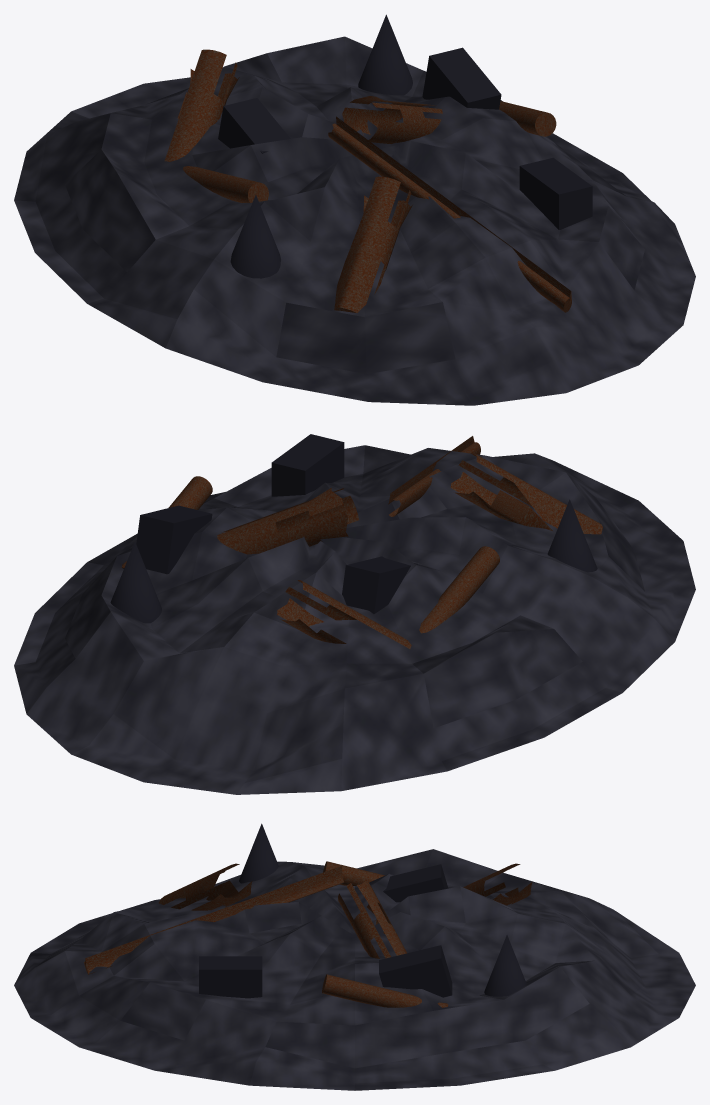
Rendered from debris.fbx.
3 renders of one model, top to bottom at view 1: azimuth 30°, elevation 25°; view 2: azimuth 150°, elevation 25°; view 3: azimuth 270°, elevation 25°, orthographic. The views are drawn at different scales.
Visible parts, largest first — view 1: pSphere1, pCylinder7, pCylinder5, pCylinder6, pCube1, pCube2, pCylinder4, pCone2, pCone1, pCube4, pCylinder1, pCylinder2; view 2: pSphere1, pCylinder4, pCylinder7, pCube1, pCube2, pCube4, pCylinder6, pCylinder1, pCone1, pCone2, pCylinder5, pCylinder2; view 3: pSphere1, pCylinder5, pCube2, pCube1, pCylinder4, pCylinder7, pCylinder2, pCube4, pCone1, pCone2, pCylinder6, pCylinder1.
Boxes of the visible parts, <box> form: pSphere1: <box>14,36,695,405</box>; pCylinder7: <box>334,176,412,312</box>; pCylinder5: <box>328,116,571,312</box>; pCylinder6: <box>164,49,239,161</box>; pCube1: <box>519,157,592,229</box>; pCube2: <box>422,47,501,109</box>; pCylinder4: <box>342,96,442,143</box>; pCone2: <box>230,195,280,278</box>; pCone1: <box>358,14,412,95</box>; pCube4: <box>218,98,290,153</box>; pCylinder1: <box>183,166,268,202</box>; pCylinder2: <box>499,101,556,136</box>; pSphere1: <box>14,445,695,794</box>; pCylinder4: <box>217,487,358,554</box>; pCylinder7: <box>450,452,602,534</box>; pCube1: <box>271,434,344,496</box>; pCube2: <box>136,505,212,574</box>; pCube4: <box>342,556,417,613</box>; pCylinder6: <box>277,580,411,648</box>; pCylinder1: <box>419,546,499,633</box>; pCone1: <box>110,541,161,623</box>; pCone2: <box>547,499,597,572</box>; pCylinder5: <box>388,436,480,516</box>; pCylinder2: <box>121,476,212,568</box>; pSphere1: <box>14,849,695,1090</box>; pCylinder5: <box>84,866,344,974</box>; pCube2: <box>379,945,452,997</box>; pCube1: <box>199,956,262,998</box>; pCylinder4: <box>338,881,406,958</box>; pCylinder7: <box>158,863,252,910</box>; pCylinder2: <box>322,974,448,1007</box>; pCube4: <box>379,864,448,902</box>; pCone1: <box>484,935,526,996</box>; pCone2: <box>239,823,278,883</box>; pCylinder6: <box>463,863,532,905</box>; pCylinder1: <box>323,861,384,885</box>.
Bounding box in the file's own units: 13.9 × 3.37 × 19.
